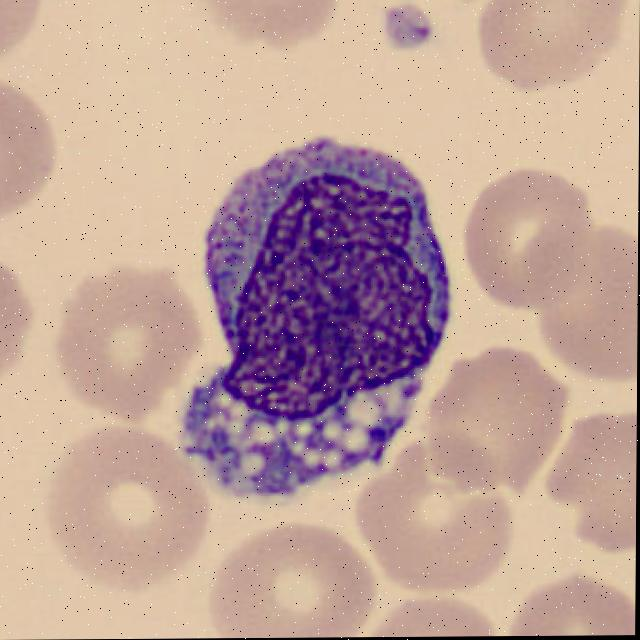monocyte: (167, 114, 451, 485)
platelets: (386, 1, 439, 52)
rbc: (55, 429, 192, 572), (418, 352, 559, 486), (219, 520, 373, 638), (69, 267, 196, 402), (374, 442, 504, 573), (538, 228, 638, 374), (474, 175, 587, 298), (552, 417, 637, 558), (478, 0, 629, 76), (201, 0, 340, 51), (520, 581, 636, 636), (0, 81, 47, 214), (0, 258, 37, 390), (380, 599, 492, 637), (1, 0, 46, 45)
